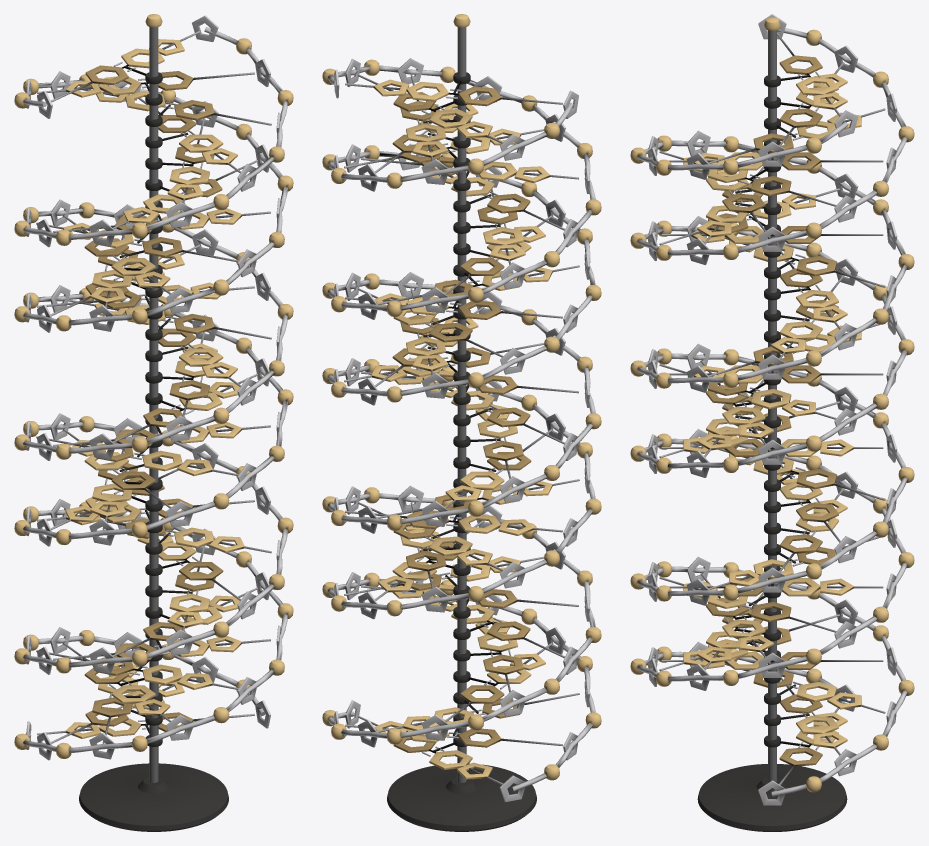
File: genome.glb
The picture shows the model from 3 angles, left to right: view 1: azimuth 30°, elevation 25°; view 2: azimuth 150°, elevation 25°; view 3: azimuth 270°, elevation 25°; orthographic projection.
Visible parts, largest first — view 1: stand_base, backbone_1, backbone_2, stand_rod, pair_13_hex_b, pair_8_hex_a, pair_31_hex_b, pair_24_hex_b, pair_29_hex_a, pair_17_hex_a, pair_19_hex_a, pair_4_hex_b (+2 smaller); view 2: backbone_1, stand_base, backbone_2, stand_rod, pair_15_hex_a, pair_5_hex_a, pair_31_hex_a, pair_31_hex_b, pair_20_hex_b, pair_25_hex_a, pair_4_hex_a, pair_3_hex_a (+8 smaller); view 3: backbone_1, stand_base, backbone_2, stand_rod, pair_30_hex_a, pair_31_hex_b, pair_0_hex_a, pair_10_hex_a, pair_26_hex_b, pair_11_hex_a, pair_7_hex_b, pair_22_hex_a (+2 smaller).
Boxes of the visible parts, x1,y1,x2,y2 form: stand_base: (79,763,228,831); backbone_1: (23,27,287,715); backbone_2: (23,80,287,752); stand_rod: (149,27,158,782); pair_13_hex_b: (111,471,155,489); pair_8_hex_a: (179,562,223,580); pair_31_hex_b: (85,65,128,85); pair_24_hex_b: (142,237,182,257); pair_29_hex_a: (174,100,214,120); pair_17_hex_a: (169,380,209,400); pair_19_hex_a: (174,314,214,334); pair_4_hex_b: (142,664,182,684); backbone_1: (328,65,595,738); stand_base: (387,763,536,831); backbone_2: (328,102,595,791); stand_rod: (457,27,466,782); pair_15_hex_a: (487,407,530,427); pair_5_hex_a: (487,621,530,640); pair_31_hex_a: (406,82,448,101); pair_31_hex_b: (458,86,501,106); pair_20_hex_b: (429,322,472,342); pair_25_hex_a: (487,193,530,213); pair_4_hex_a: (483,654,523,674); pair_3_hex_a: (460,685,504,703); backbone_1: (637,122,907,796); stand_base: (697,764,847,831); backbone_2: (637,28,907,699); stand_rod: (768,30,776,782); pair_30_hex_a: (779,108,822,127); pair_31_hex_b: (779,55,822,74); pair_0_hex_a: (779,747,822,766); pair_10_hex_a: (779,534,822,553); pair_26_hex_b: (722,193,765,212); pair_11_hex_a: (796,502,838,522); pair_7_hex_b: (751,601,791,622); pair_22_hex_a: (796,256,836,276).
Size of the model in its own units: 5.07 by 16.19 by 5.32.
